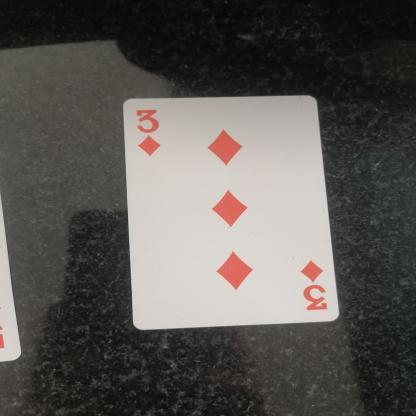3D: (294, 249, 336, 317), (128, 103, 167, 159)
